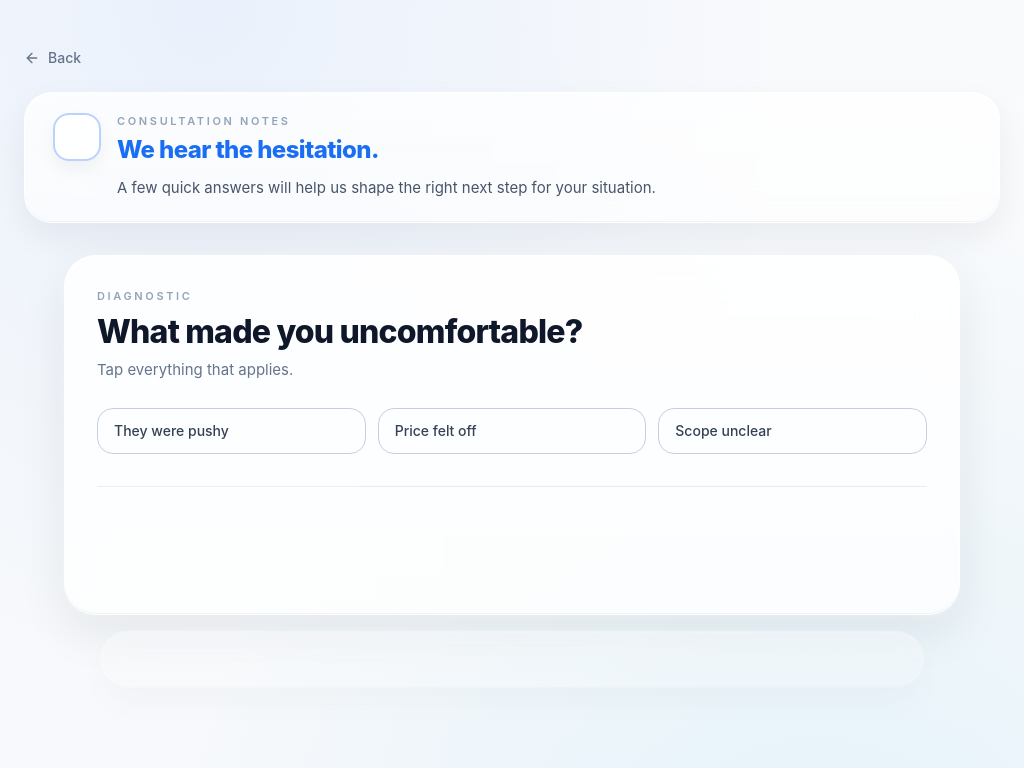
it: StepDiagnosis — 6-step pre-sales flow › advances from step 1 to urgency after branch selection
What coordinates should you click on to do the following:
click the button "They were pushy"
I would click on:
 (231, 431)
Its box is x1=97 y1=408 x2=366 y2=454.
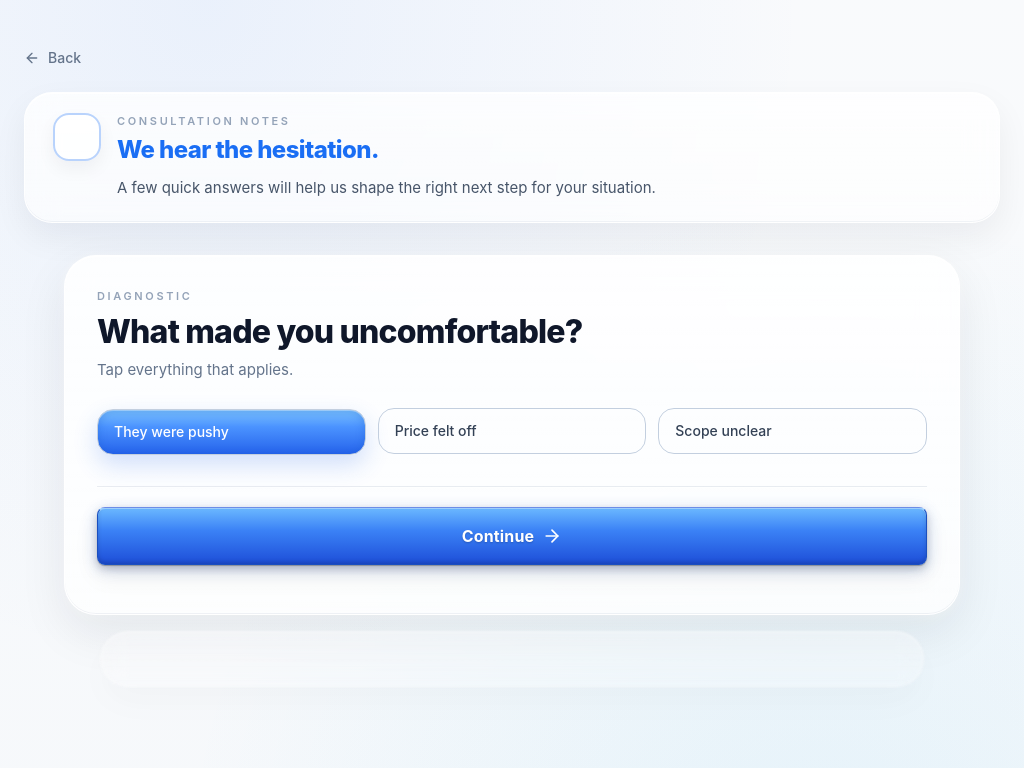
What coordinates should you click on to do the following:
click the button "Continue"
I would click on:
 (512, 536)
Its box is x1=97 y1=507 x2=927 y2=565.
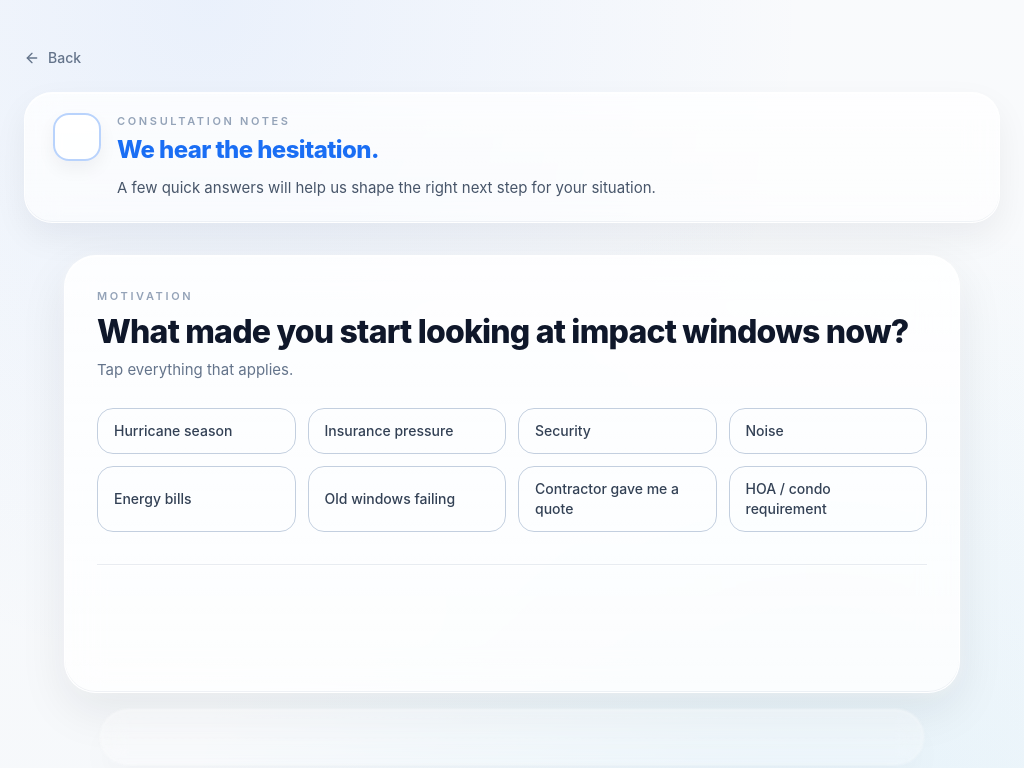
Result: the heading "What made you start looking at impact windows now?" is shown at x1=97 y1=316 x2=927 y2=348
